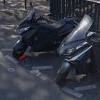Motorcycle: (10, 10, 92, 88)
